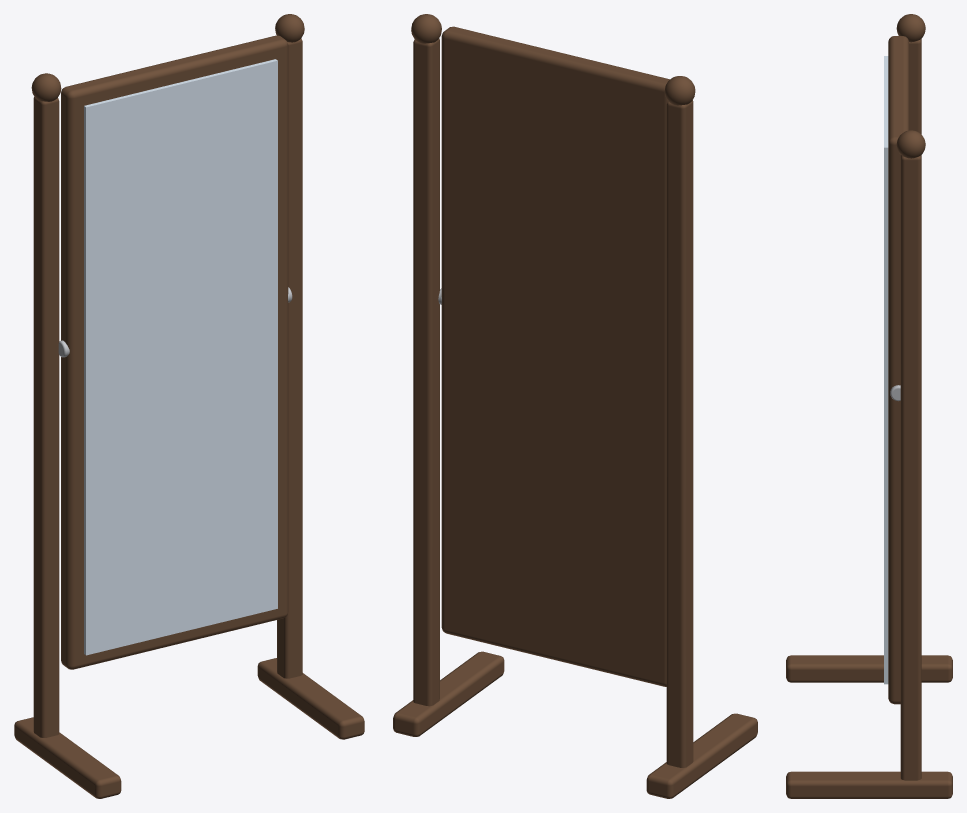
Rendered from mirror.glb.
The picture shows the model from 3 angles, left to right: view 1: azimuth 30°, elevation 25°; view 2: azimuth 150°, elevation 25°; view 3: azimuth 270°, elevation 25°; orthographic projection. The views are drawn at different scales.
Parts seen in each view (by area): view 1: Cube.005, Cube.004, Cube, Cube.002, Cube.001, Cube.003, Sphere, Sphere.001; view 2: Cube.004, Cube, Cube.002, Cube.001, Cube.003, Sphere, Sphere.001; view 3: Cube.002, Cube.004, Cube.003, Cube.001, Cube.005, Cube, Sphere.001, Sphere.
Boxes of the visible parts, x1,y1,x2,y2 form: Cube.005: [84, 59, 277, 655]; Cube.004: [61, 35, 288, 669]; Cube: [33, 97, 59, 737]; Cube.002: [277, 38, 302, 678]; Cube.001: [14, 717, 121, 798]; Cube.003: [257, 658, 364, 739]; Sphere: [31, 73, 61, 101]; Sphere.001: [275, 14, 304, 42]; Cube.004: [441, 26, 669, 686]; Cube: [666, 100, 693, 767]; Cube.002: [413, 38, 439, 706]; Cube.001: [646, 713, 757, 798]; Cube.003: [393, 651, 504, 736]; Sphere: [664, 76, 695, 105]; Sphere.001: [411, 14, 441, 43]; Cube.002: [900, 155, 921, 780]; Cube.004: [888, 36, 908, 704]; Cube.003: [786, 771, 952, 798]; Cube.001: [786, 655, 952, 682]; Cube.005: [884, 56, 888, 684]; Cube: [909, 39, 921, 134]; Sphere.001: [896, 130, 925, 158]; Sphere: [896, 14, 925, 42].
Size of the model in its own units: 0.73 by 1.76 by 0.4.
